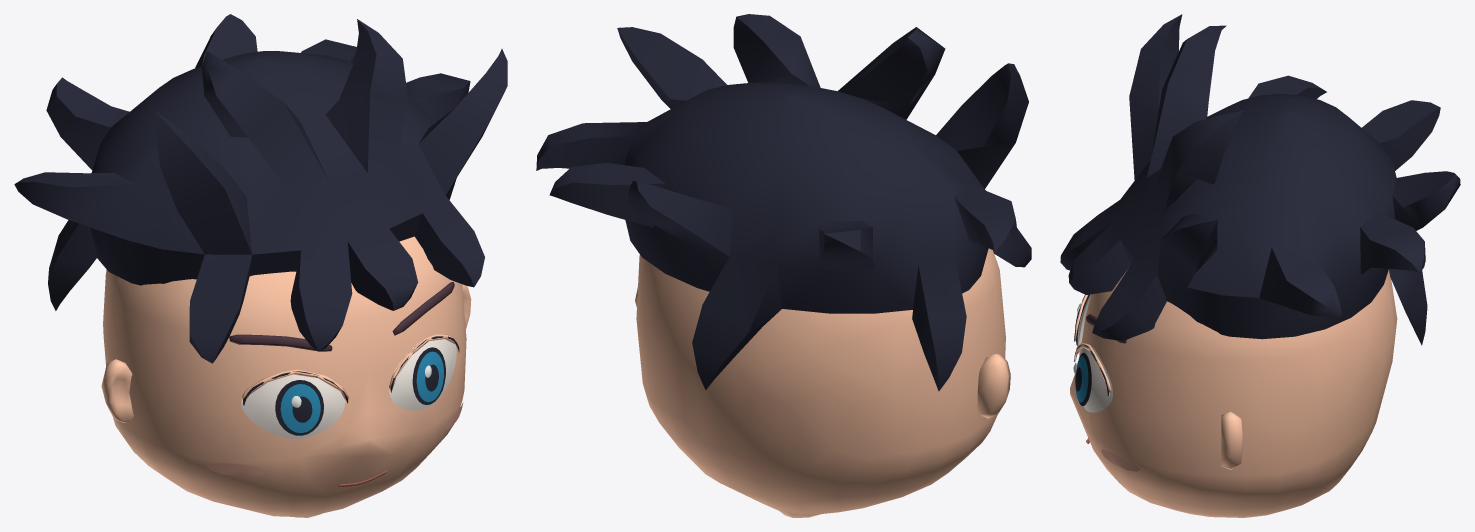
File: kairo-head-mobile.glb
3 views of the same model, side by side, from view 1: azimuth 30°, elevation 25°; view 2: azimuth 150°, elevation 25°; view 3: azimuth 270°, elevation 25° (orthographic). The views are drawn at different scales.
Parts seen in each view (by area): view 1: Kairo_Hair_mobile, Kairo_Skin_mobile, Kairo_EyeWhites_mobile, Kairo_Pupils_mobile, Kairo_Iris_mobile, Kairo_FaceInk_mobile, Kairo_Blush_mobile; view 2: Kairo_Hair_mobile, Kairo_Skin_mobile; view 3: Kairo_Hair_mobile, Kairo_Skin_mobile, Kairo_EyeWhites_mobile, Kairo_Pupils_mobile.
Boxes of the visible parts, x1,y1,x2,y2 form: Kairo_Hair_mobile: (14,14,507,363); Kairo_Skin_mobile: (101,236,471,517); Kairo_EyeWhites_mobile: (241,339,456,439); Kairo_Pupils_mobile: (243,336,459,435); Kairo_Iris_mobile: (280,351,443,432); Kairo_FaceInk_mobile: (229,282,454,351); Kairo_Blush_mobile: (206,402,463,476); Kairo_Hair_mobile: (536,14,1031,391); Kairo_Skin_mobile: (635,248,1010,517); Kairo_Hair_mobile: (1060,14,1460,345); Kairo_Skin_mobile: (1070,269,1397,517); Kairo_EyeWhites_mobile: (1077,294,1112,412); Kairo_Pupils_mobile: (1074,294,1109,405).
Size of the model in its own units: 2.34 by 2.31 by 1.91.
